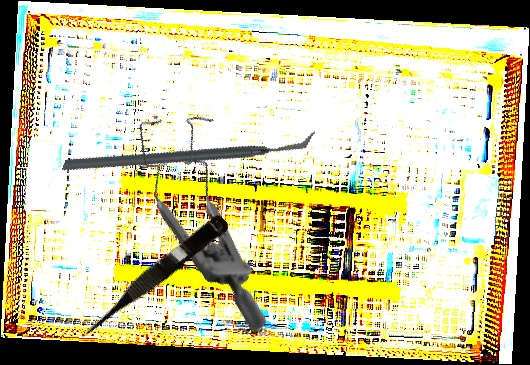Chopper: (61, 57, 316, 245)
Micro Scissor: (71, 209, 231, 345)
Speculum: (78, 86, 344, 335)
